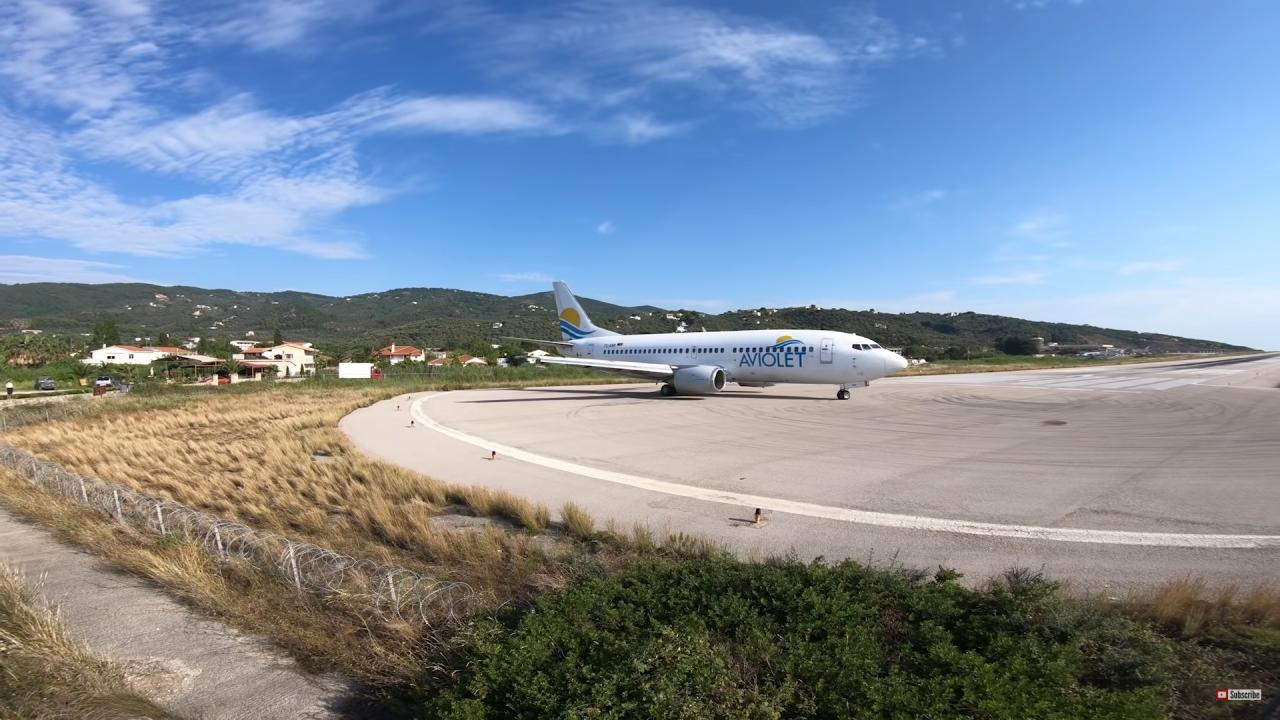Airplane: (523, 274, 917, 411)
